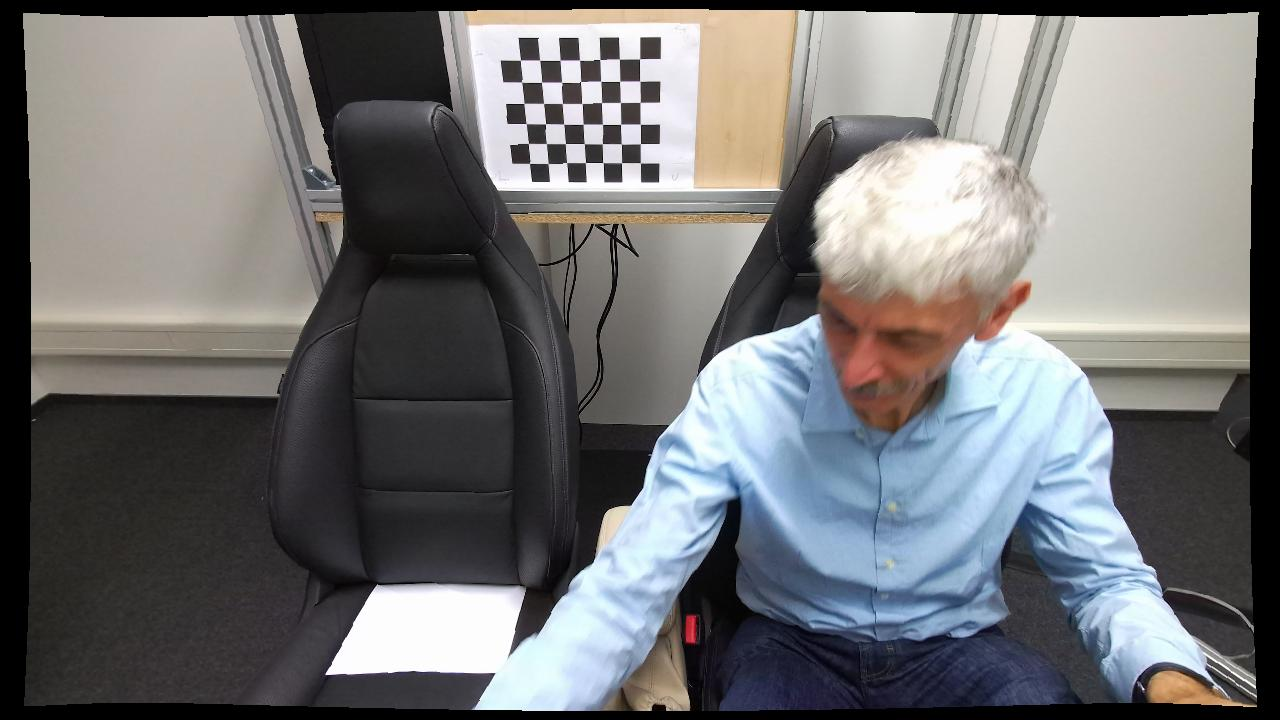Distracted: (468, 130, 1164, 712)
